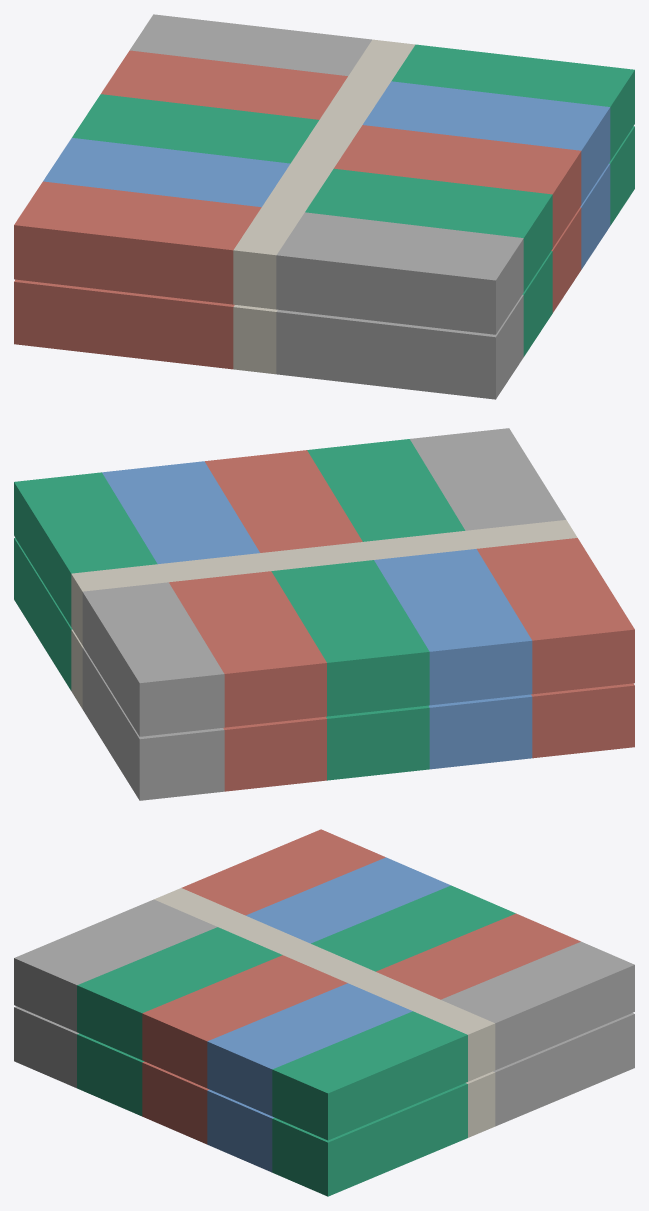
File: indoor_dekanat_ftui.glb
The picture shows the model from 3 angles, top to bottom: view 1: azimuth 30°, elevation 25°; view 2: azimuth 150°, elevation 25°; view 3: azimuth 270°, elevation 25°; orthographic projection. The views are drawn at different scales.
Parts seen in each view (by area): view 1: F2_201, F2_202, F1_101, F1_102, F2_2K, F2_207, F2_203, F2_205, F2_204, F2_206, F2_208, F2_209 (+6 smaller); view 2: F2_210, F2_204, F2_206, F2_208, F2_202, F2_209, F2_2K, F2_203, F2_207, F2_205, F2_201, F1_110 (+6 smaller); view 3: F2_209, F2_210, F1_109, F2_205, F2_203, F2_207, F2_201, F2_2K, F1_110, F2_204, F2_206, F2_208 (+6 smaller).
Boxes of the visible parts, x1,y1,x2,y2 form: F2_201: (276, 212, 523, 334); F2_202: (14, 181, 261, 304); F1_101: (276, 294, 523, 399); F1_102: (14, 279, 234, 369); F2_2K: (233, 39, 415, 309); F2_207: (363, 81, 610, 204); F2_203: (305, 168, 552, 291); F2_205: (334, 125, 581, 248); F2_204: (43, 138, 289, 207); F2_206: (72, 94, 318, 163); F2_208: (101, 50, 347, 119); F2_209: (391, 44, 634, 160); F2_210: (82, 582, 224, 736); F2_204: (374, 549, 532, 705); F2_206: (271, 560, 429, 716); F2_208: (169, 571, 326, 727); F2_202: (477, 538, 634, 694); F2_209: (14, 472, 157, 626); F2_2K: (71, 520, 577, 644); F2_203: (307, 439, 465, 541); F2_207: (102, 461, 259, 563); F2_205: (205, 450, 362, 552); F2_201: (410, 428, 566, 530); F1_110: (82, 647, 224, 800); F2_209: (272, 1011, 467, 1140); F2_210: (441, 941, 634, 1070); F1_109: (272, 1083, 467, 1196); F2_205: (142, 955, 347, 1087); F2_203: (77, 927, 282, 1059); F2_207: (207, 983, 412, 1116); F2_201: (14, 899, 217, 1031); F2_2K: (154, 888, 495, 1081); F1_110: (493, 1013, 634, 1126); F2_204: (246, 857, 450, 943); F2_206: (311, 885, 515, 971); F2_208: (376, 913, 580, 999).
Bounding box in the file's own units: 40.36 × 7.35 × 40.08.
